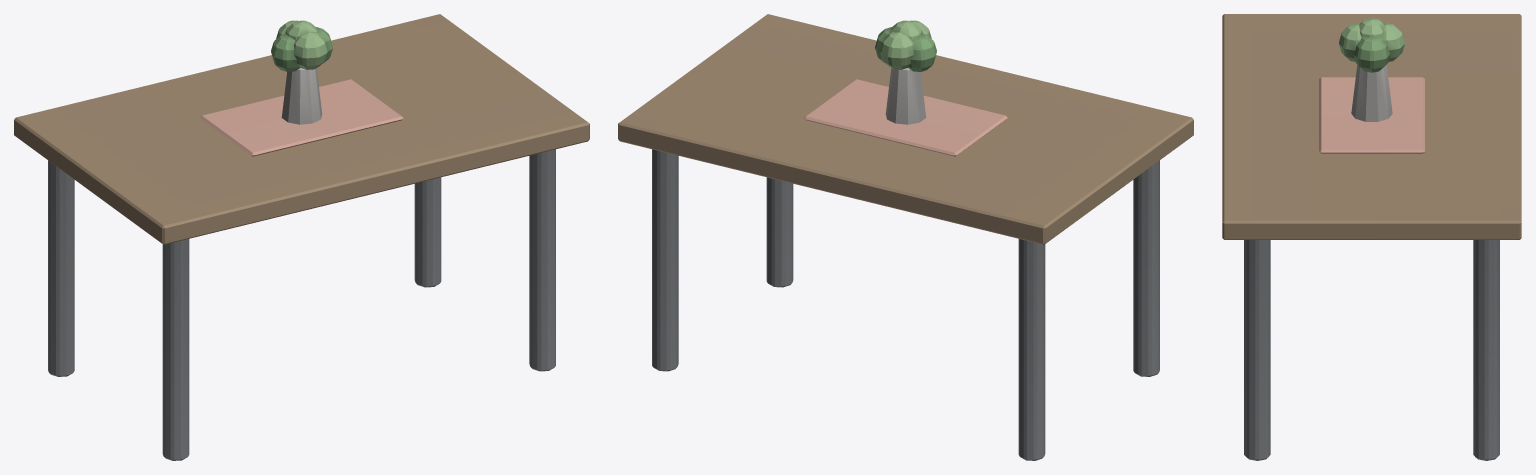
The model's file is furn_dining_table__walnut.glb.
The picture shows the model from 3 angles, left to right: view 1: azimuth 30°, elevation 25°; view 2: azimuth 150°, elevation 25°; view 3: azimuth 270°, elevation 25°; orthographic projection.
Bounding box in the file's own units: 1.4 × 1.09 × 0.85.
